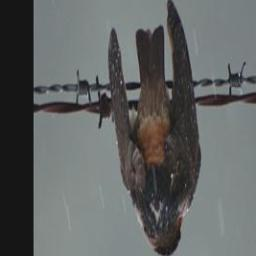Swallow: (106, 0, 202, 256)
